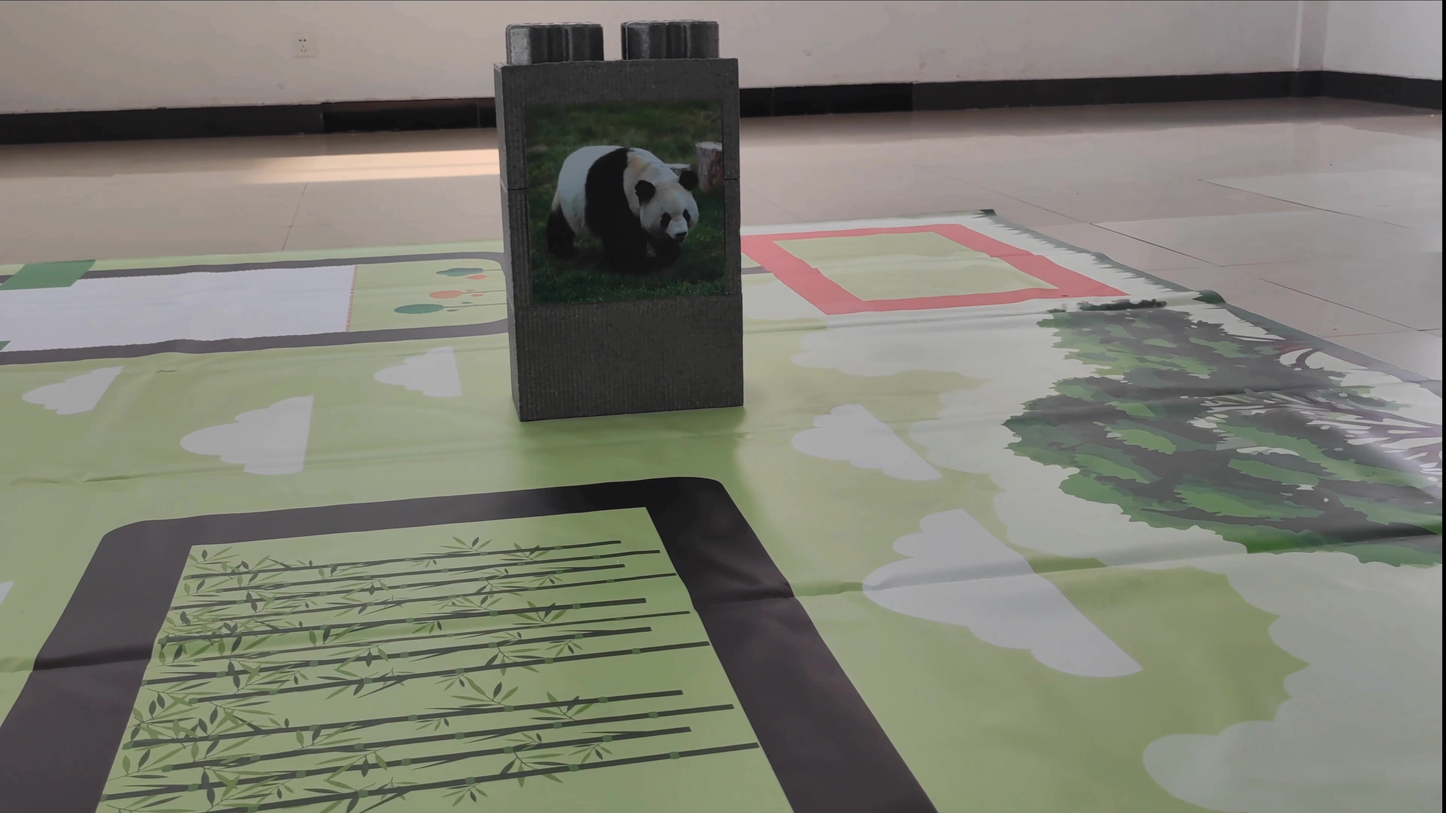panda: (532, 100, 726, 290)
